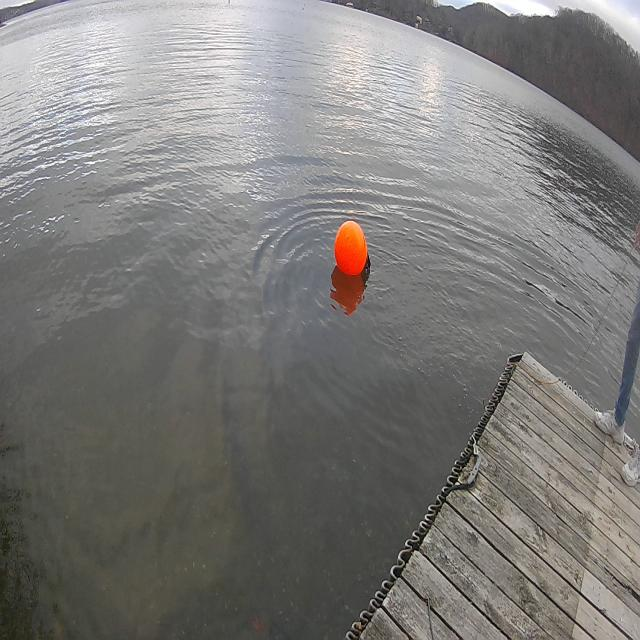Buoy: (329, 212, 376, 298)
